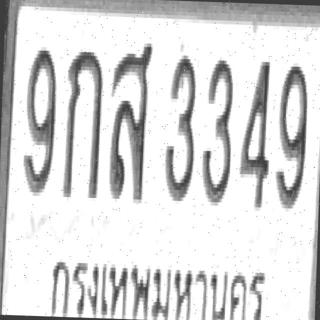A01: (62, 48, 103, 198)
A40: (107, 38, 153, 200)
N03: (163, 51, 197, 201), (200, 56, 233, 202)
N04: (239, 57, 272, 207)
N09: (22, 44, 56, 194), (275, 62, 308, 209)
P04: (39, 227, 306, 320)
